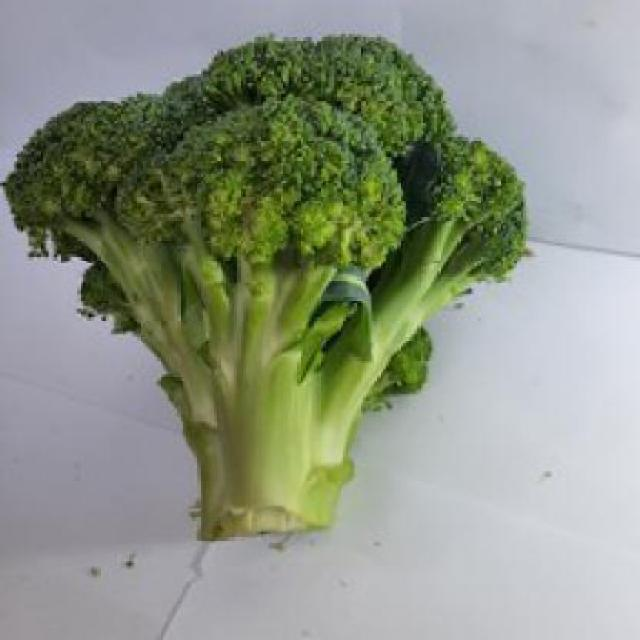broccoli: (5, 19, 532, 539)
